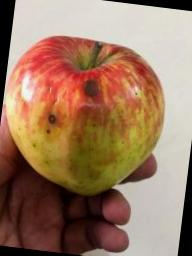Apple Overripe: (0, 22, 176, 198)
